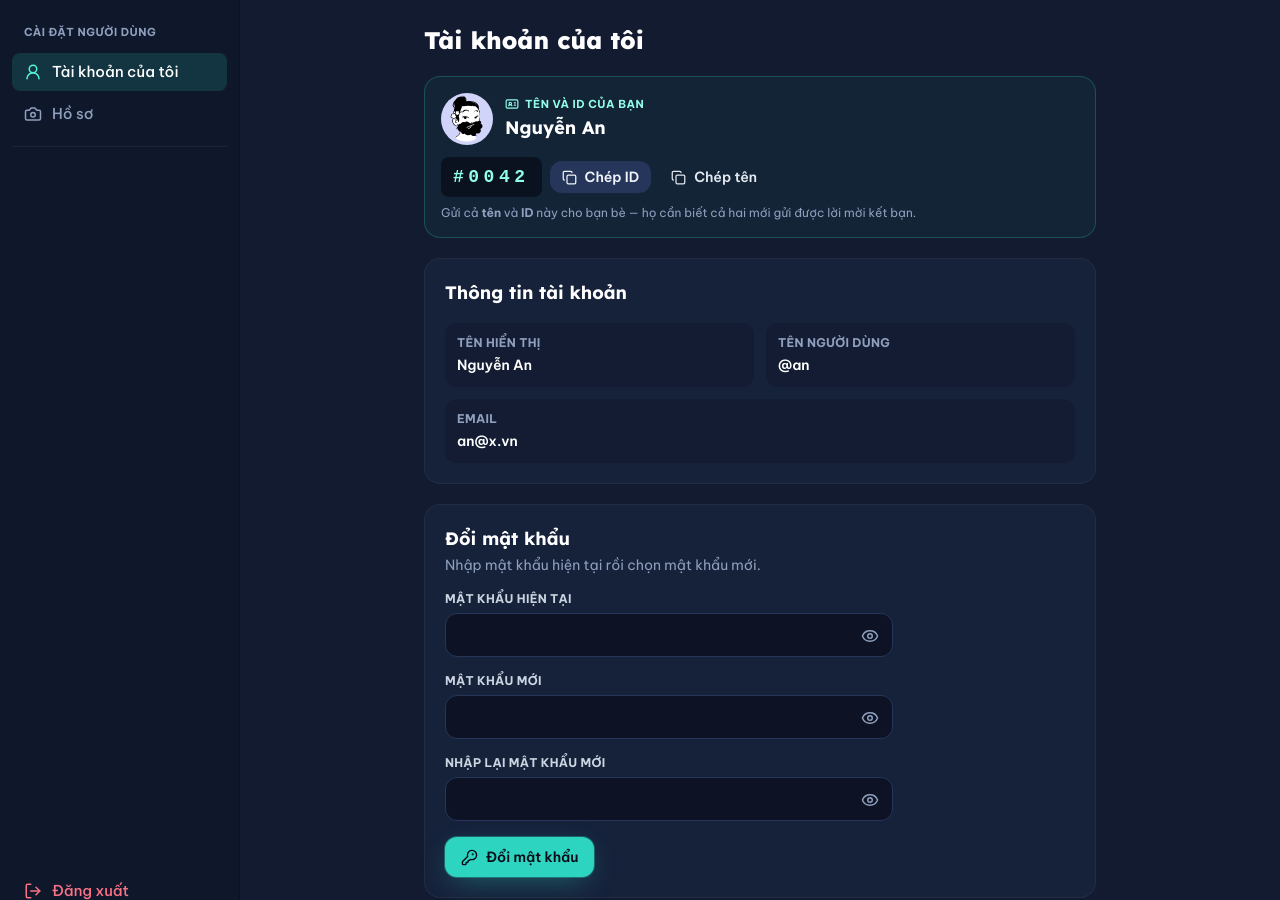
Scenario: Cài đặt → Tài khoản của tôi › mật khẩu hiện tại sai (lỗi từ server) được hiển thị
Type "sai" into the password field labelled "Mật khẩu hiện tại" at (669, 635), box [445, 613, 893, 657]
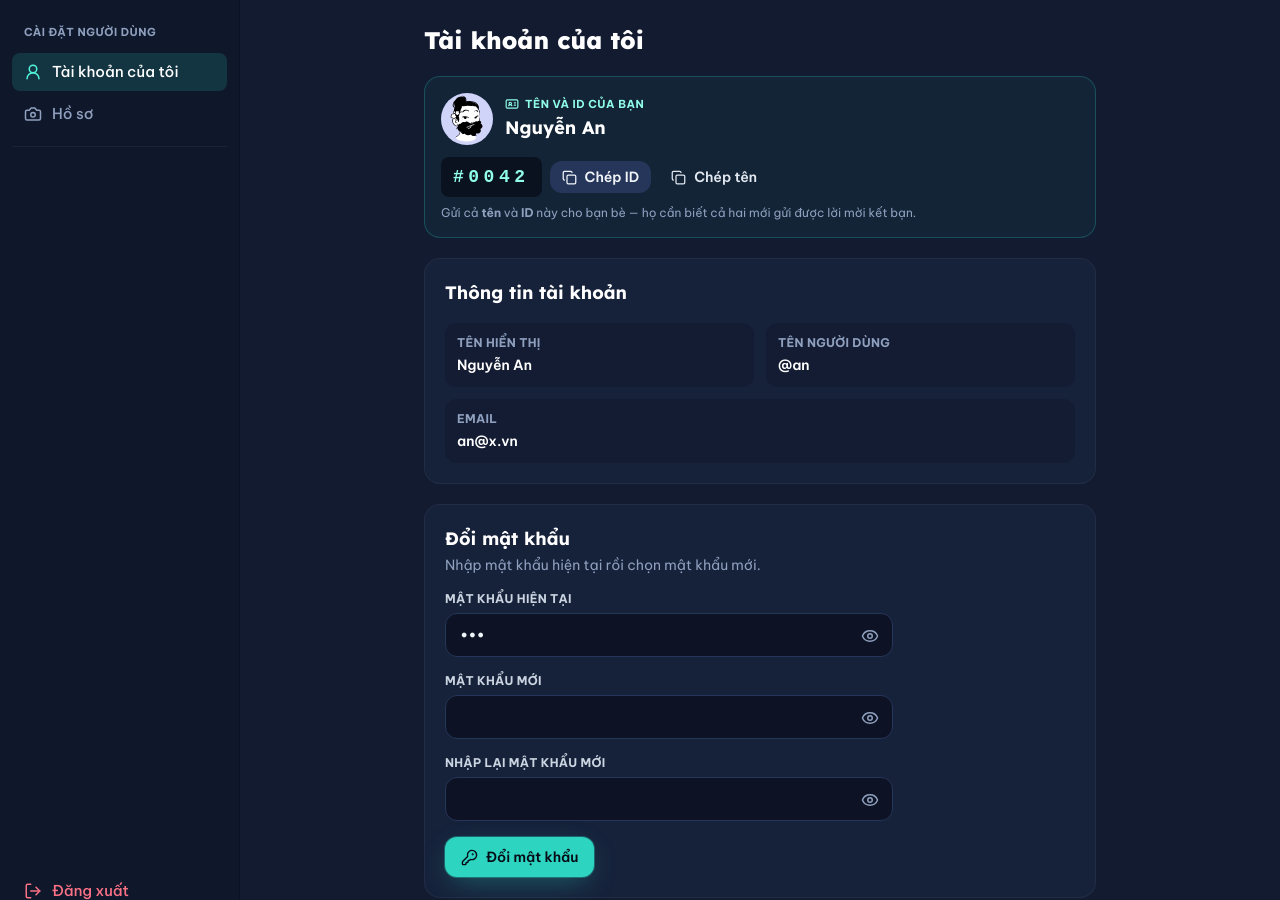
Type "moi1234" into the password field labelled "Mật khẩu mới" at (669, 717), box [445, 695, 893, 739]
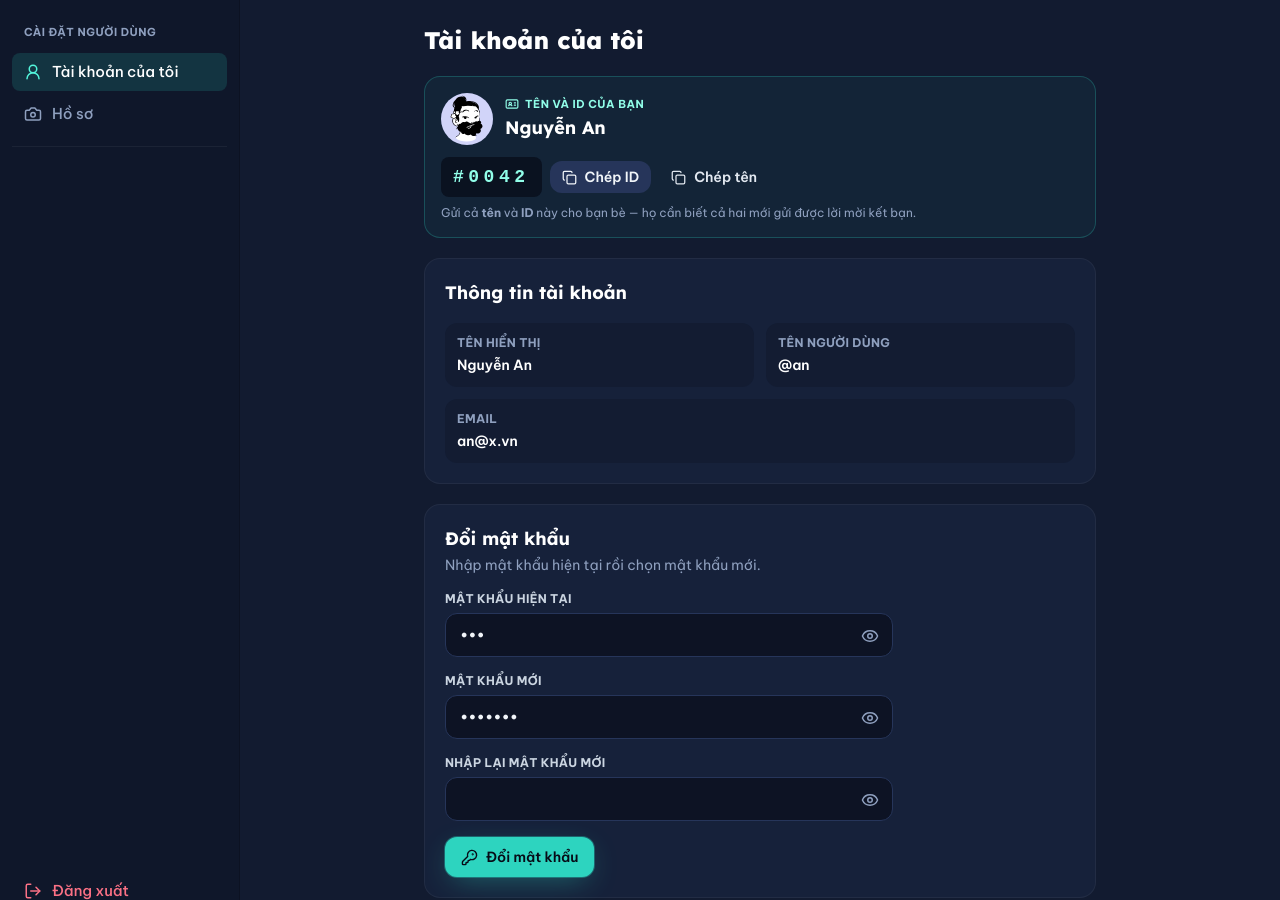
Type "moi1234" into the password field labelled "Nhập lại mật khẩu mới" at (669, 799), box [445, 777, 893, 821]
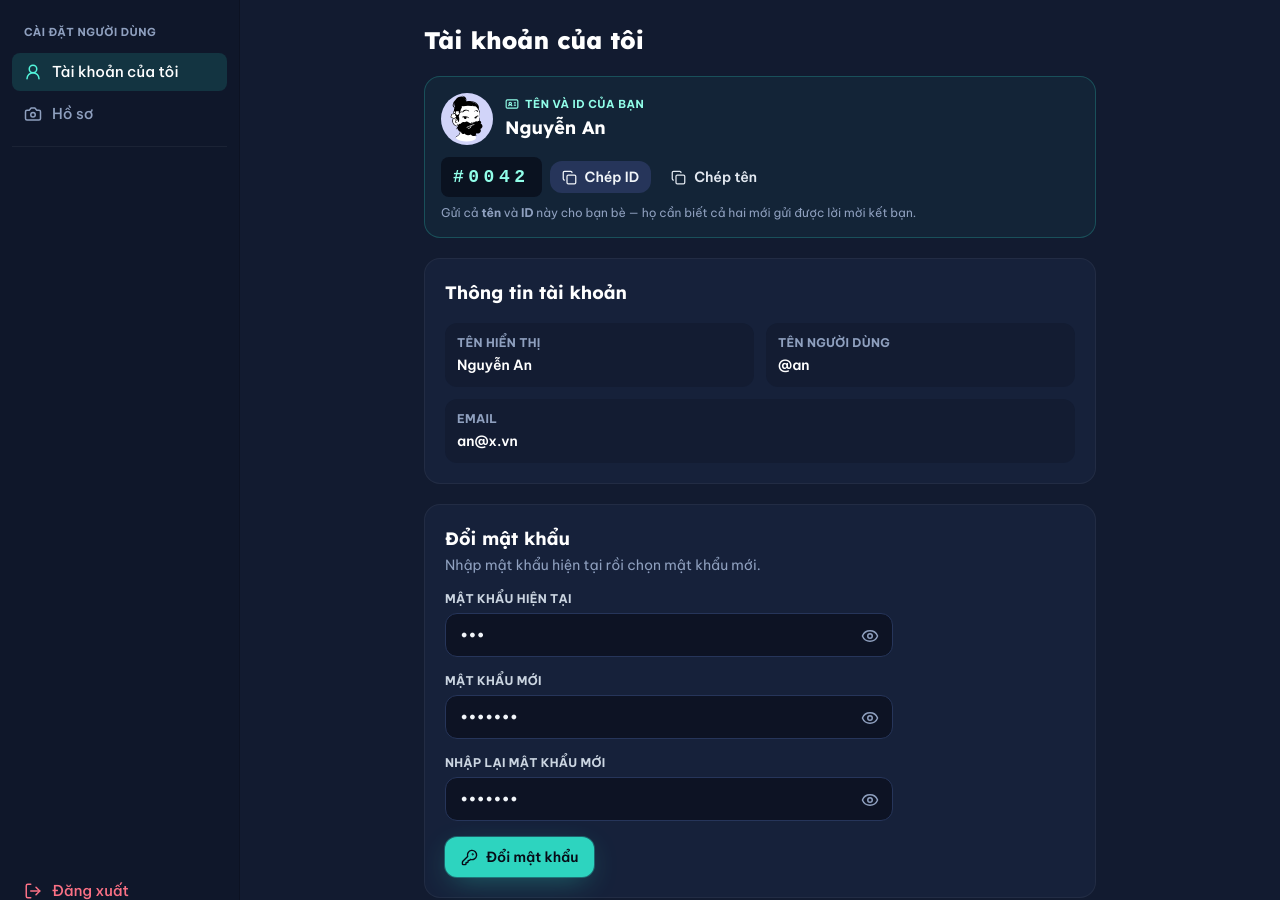
Click the button "Đổi mật khẩu" at (520, 857), box [445, 837, 594, 877]
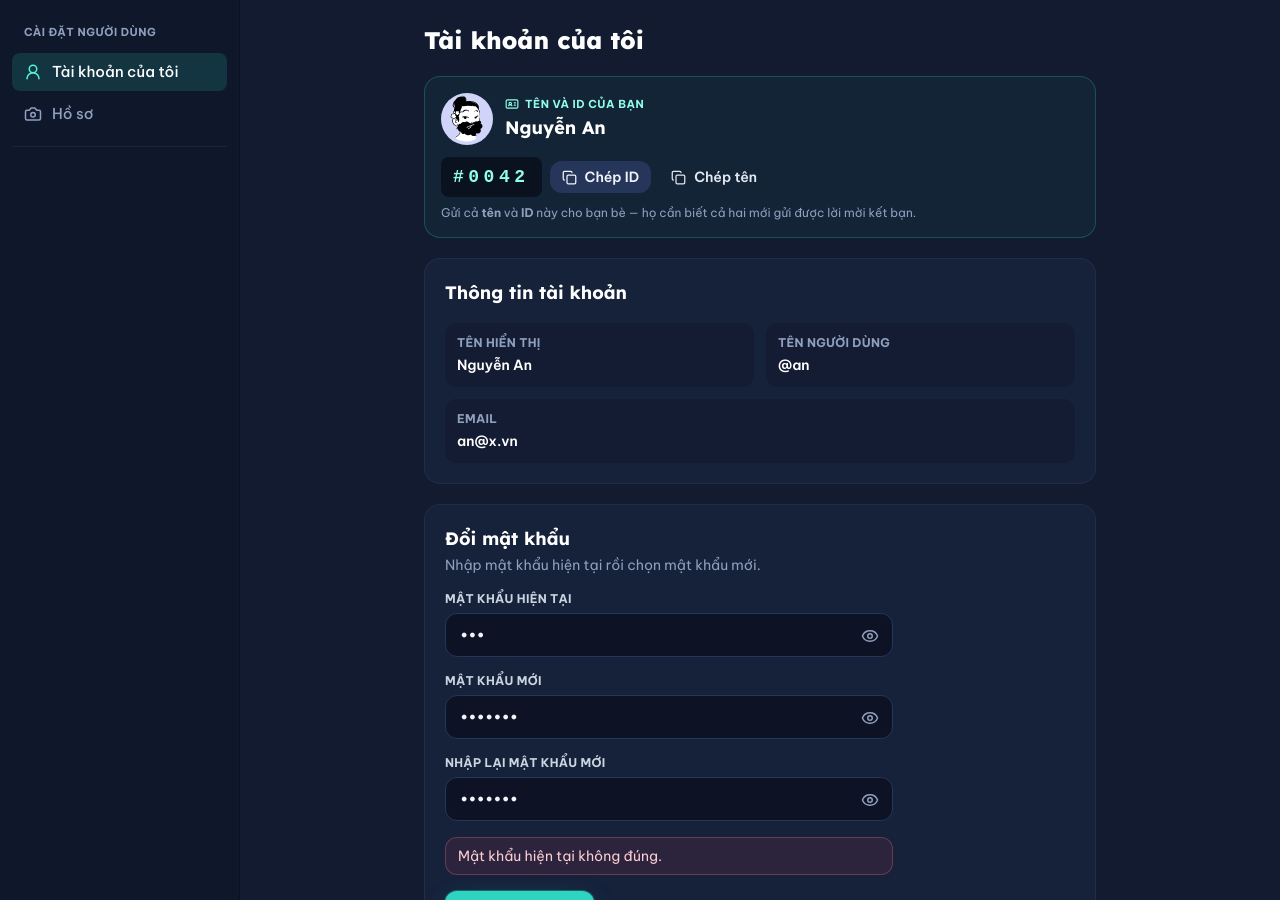
Result: the text "Mật khẩu hiện tại không đúng." is shown at [445, 837, 893, 875]
